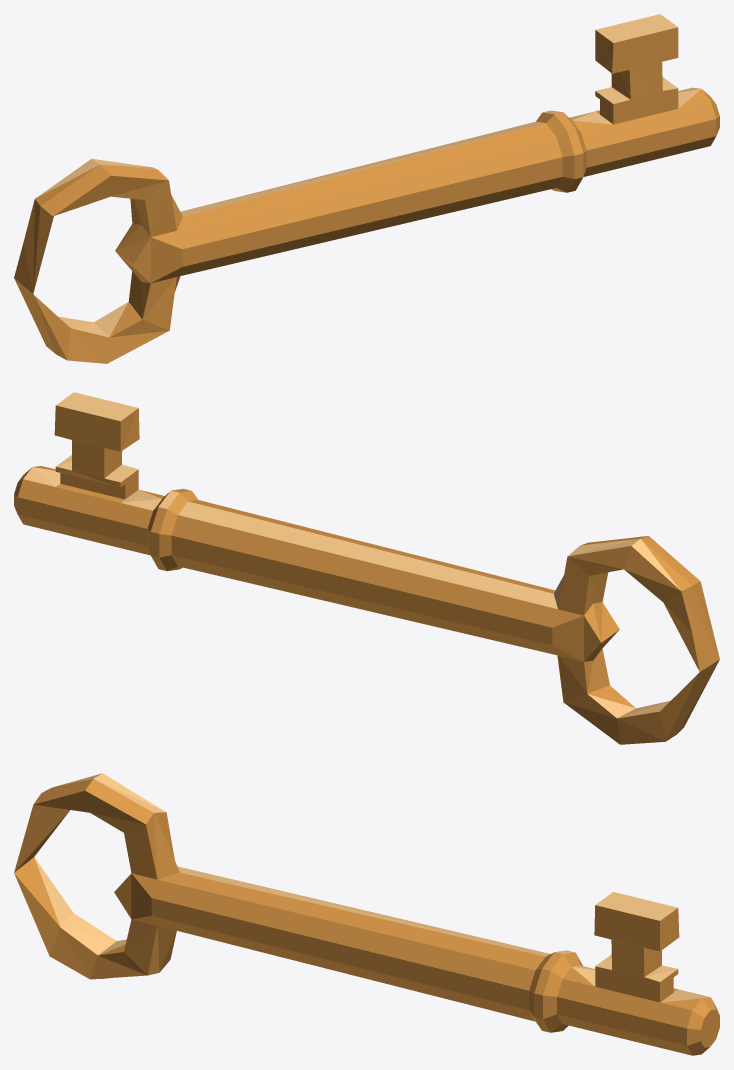
3 views of the same model, one above another, from view 1: azimuth 30°, elevation 25°; view 2: azimuth 150°, elevation 25°; view 3: azimuth 330°, elevation 25° (orthographic).
Parts seen in each view (by area): view 1: group999456887; view 2: group999456887; view 3: group999456887.
Boxes of the visible parts, x1,y1,x2,y2 form: group999456887: [14, 14, 719, 363]; group999456887: [14, 392, 719, 744]; group999456887: [14, 773, 719, 1055].
Bounding box in the file's own units: 5 × 1.42 × 0.5077.
